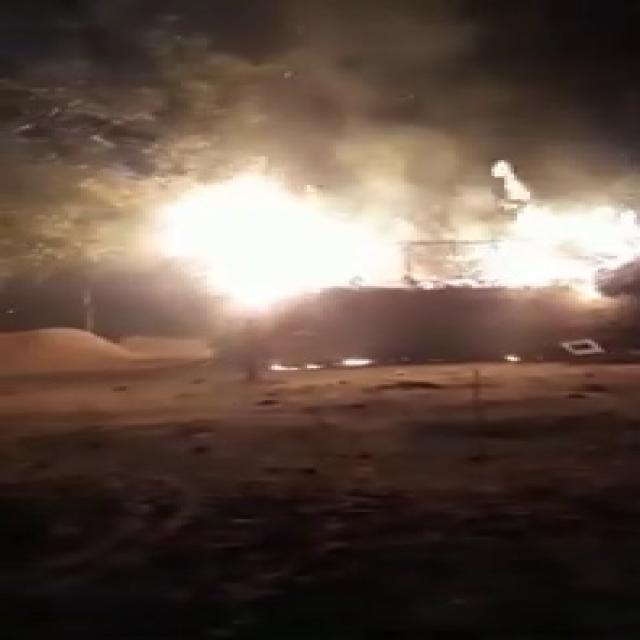Fire: (168, 172, 630, 322)
Smoke: (129, 8, 627, 195)
